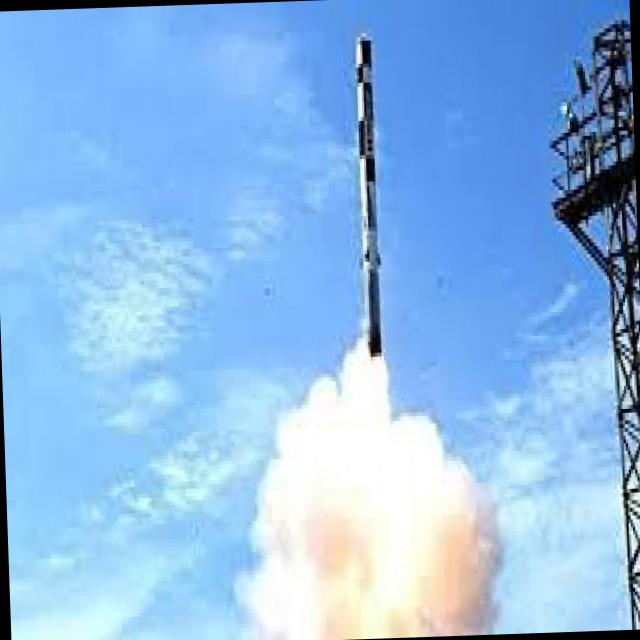rocket: (346, 30, 400, 488)
